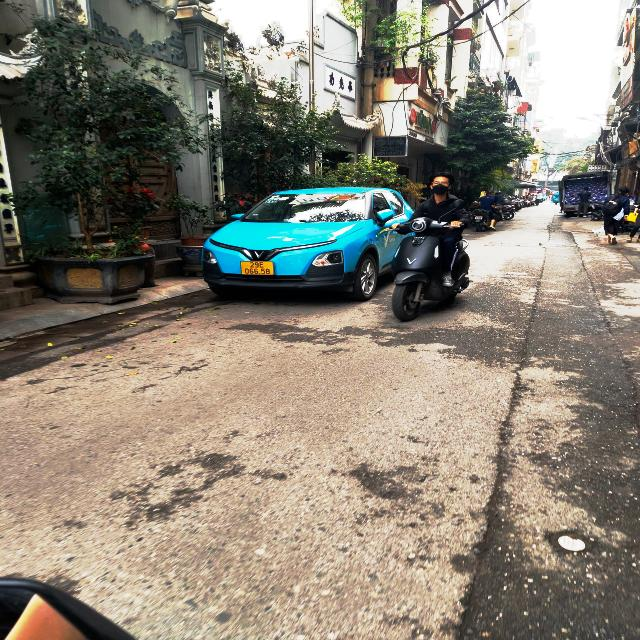license_plate: (242, 262, 276, 276)
